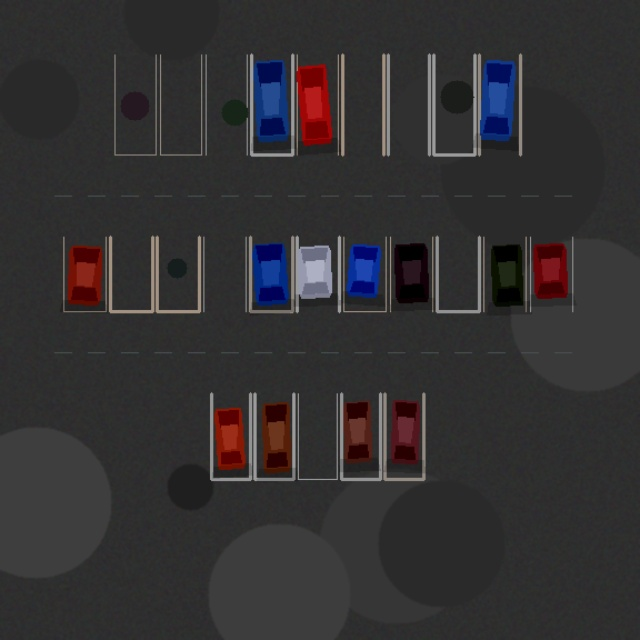space-empty: (114, 54, 156, 154), (160, 54, 201, 154), (206, 54, 247, 154), (342, 54, 383, 154), (388, 54, 429, 154), (433, 54, 474, 154), (298, 393, 337, 479), (203, 237, 246, 311), (110, 237, 152, 311), (157, 237, 199, 311), (437, 237, 479, 311)
space-occupied: (251, 54, 292, 154), (297, 54, 338, 154), (479, 54, 520, 154), (211, 393, 250, 479), (254, 393, 293, 479), (341, 393, 380, 479), (384, 393, 423, 479), (63, 237, 106, 311), (343, 237, 386, 311), (483, 237, 526, 311), (250, 237, 292, 311), (297, 237, 339, 311), (390, 237, 432, 311), (530, 237, 572, 311)
